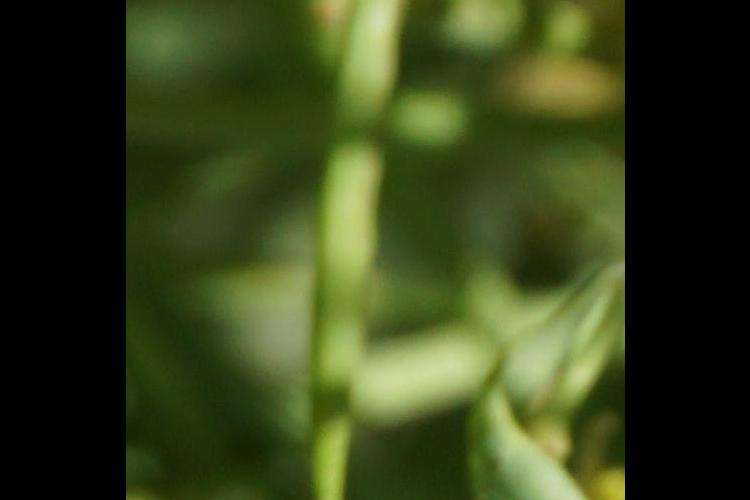pod: (304, 1, 413, 500)
